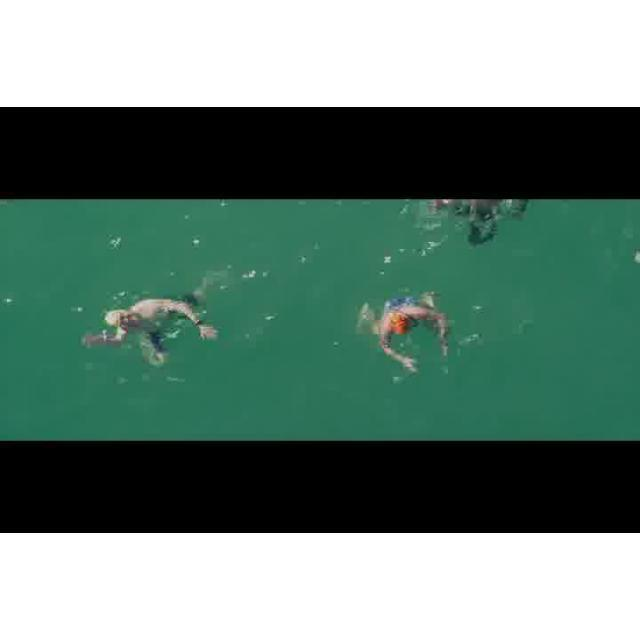human: (83, 295, 224, 367), (360, 284, 459, 380)
